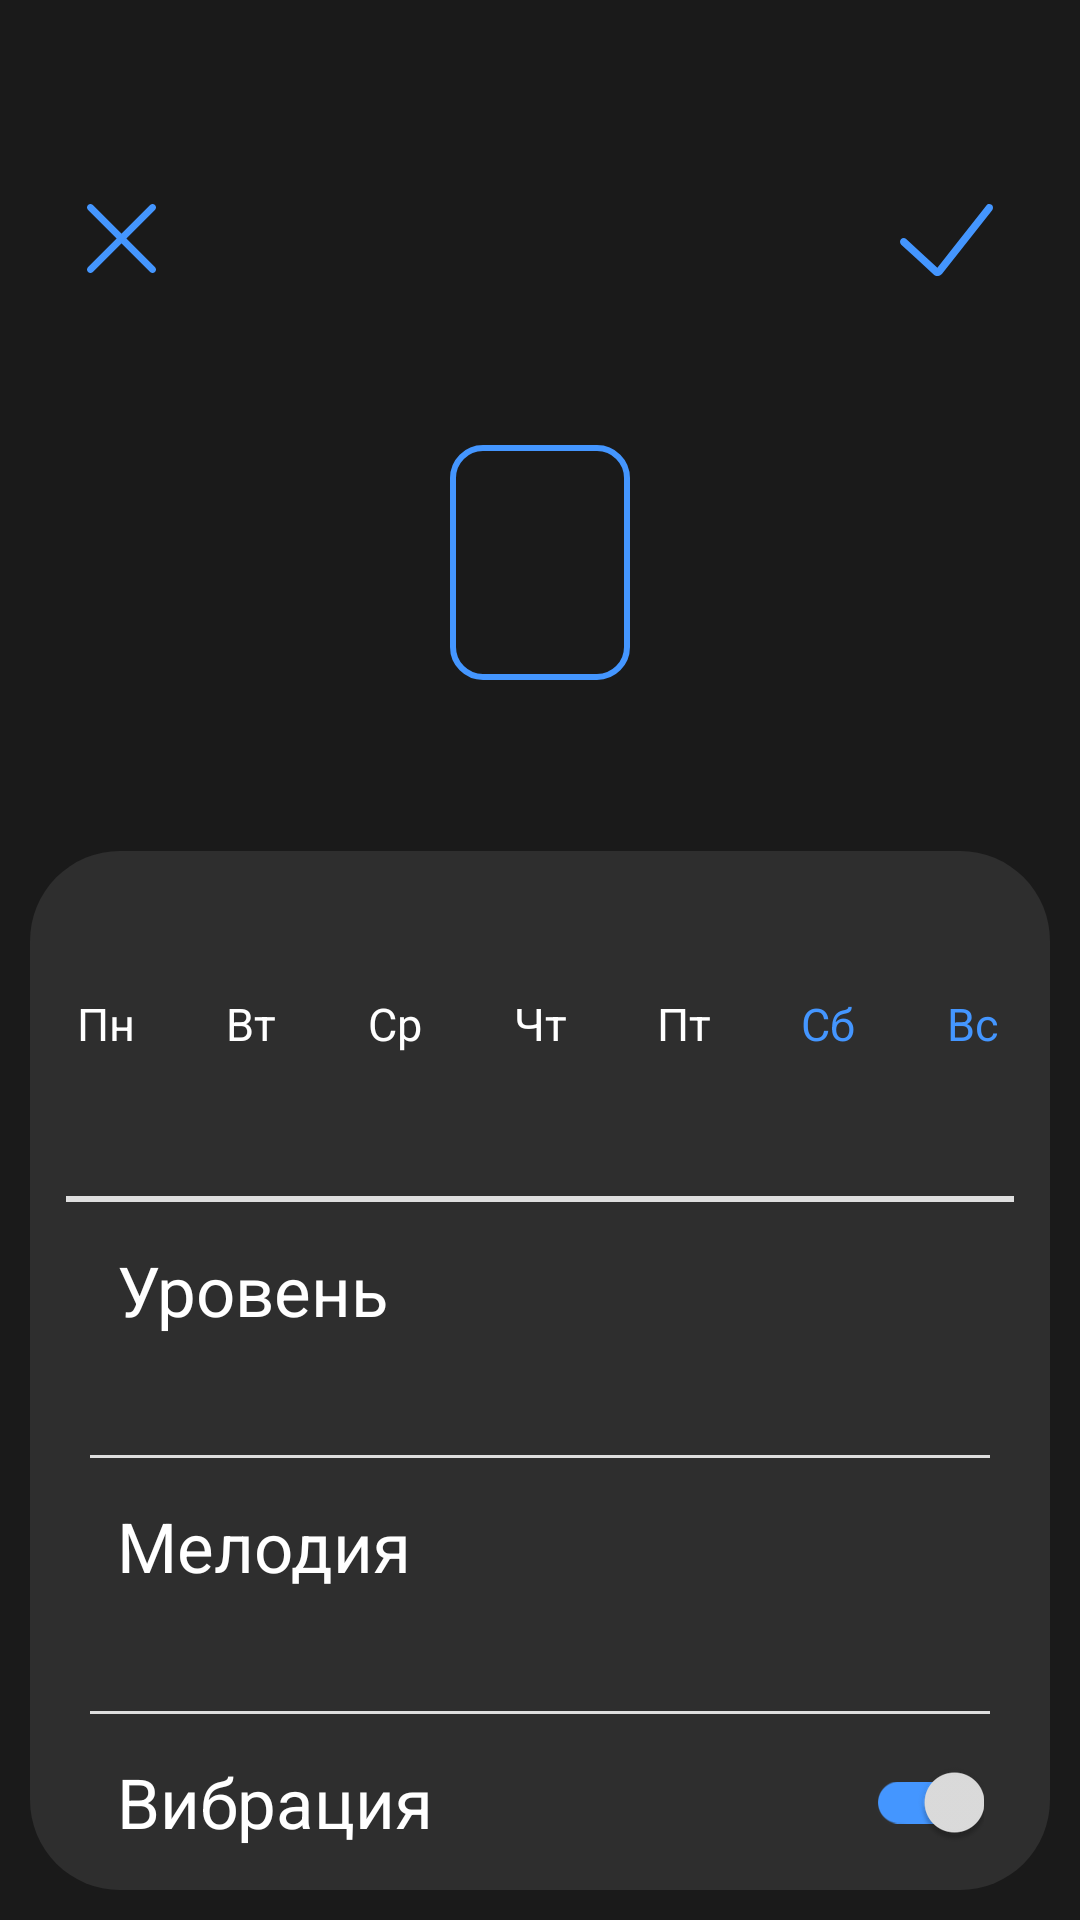

Icons on this 1080 × 1920 Android screen, each with the point to tap as (x,y):
отмена: (121,238)
сохранить: (946,240)
